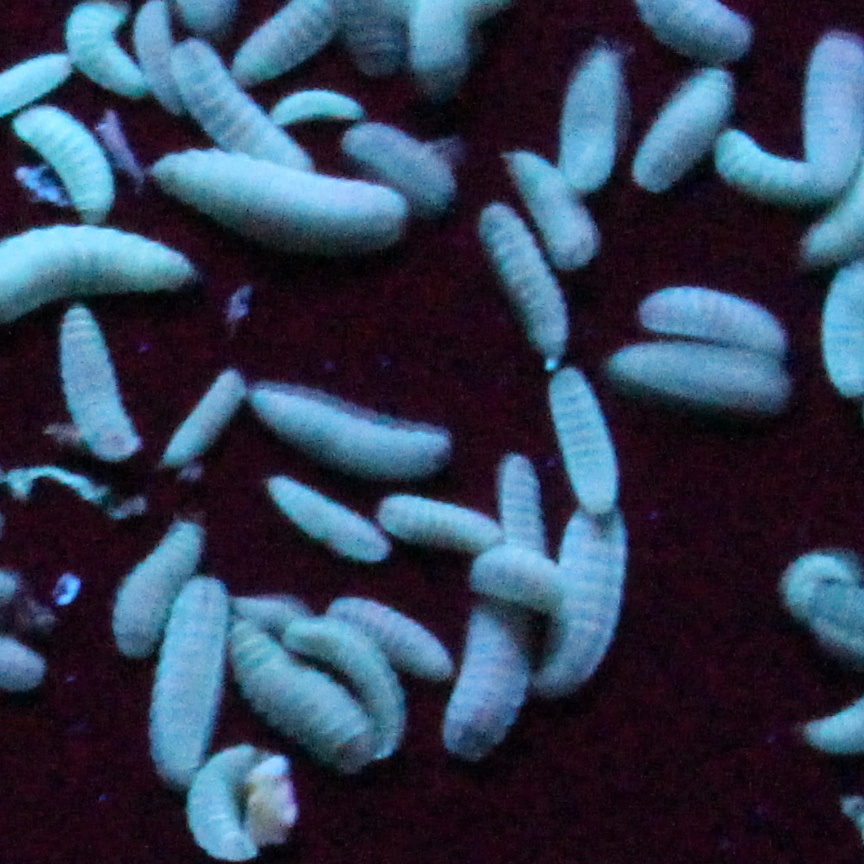larve: (156, 154, 405, 254), (721, 31, 862, 199), (229, 614, 364, 758), (253, 382, 447, 473), (287, 616, 408, 748), (151, 571, 223, 778), (440, 610, 533, 768), (195, 49, 313, 173), (540, 530, 625, 697), (484, 209, 569, 375), (113, 518, 202, 656), (502, 150, 598, 275), (615, 349, 790, 414), (18, 108, 112, 226), (61, 321, 139, 456), (641, 75, 735, 185), (547, 376, 620, 516), (327, 590, 441, 673), (639, 286, 794, 344), (554, 40, 612, 195), (267, 475, 374, 558), (344, 126, 454, 206), (167, 371, 243, 466), (67, 1, 133, 103), (378, 492, 494, 547), (470, 551, 564, 609), (499, 455, 540, 549), (271, 96, 374, 119)
